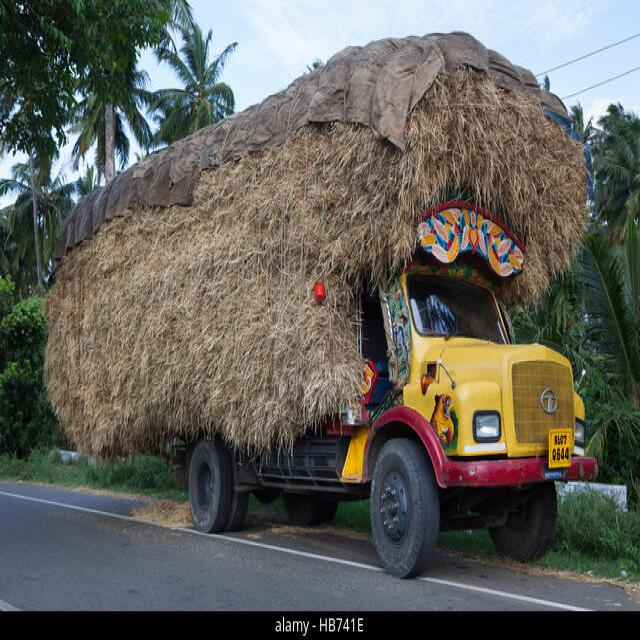goods: (46, 32, 584, 457)
truck: (190, 200, 598, 577)
